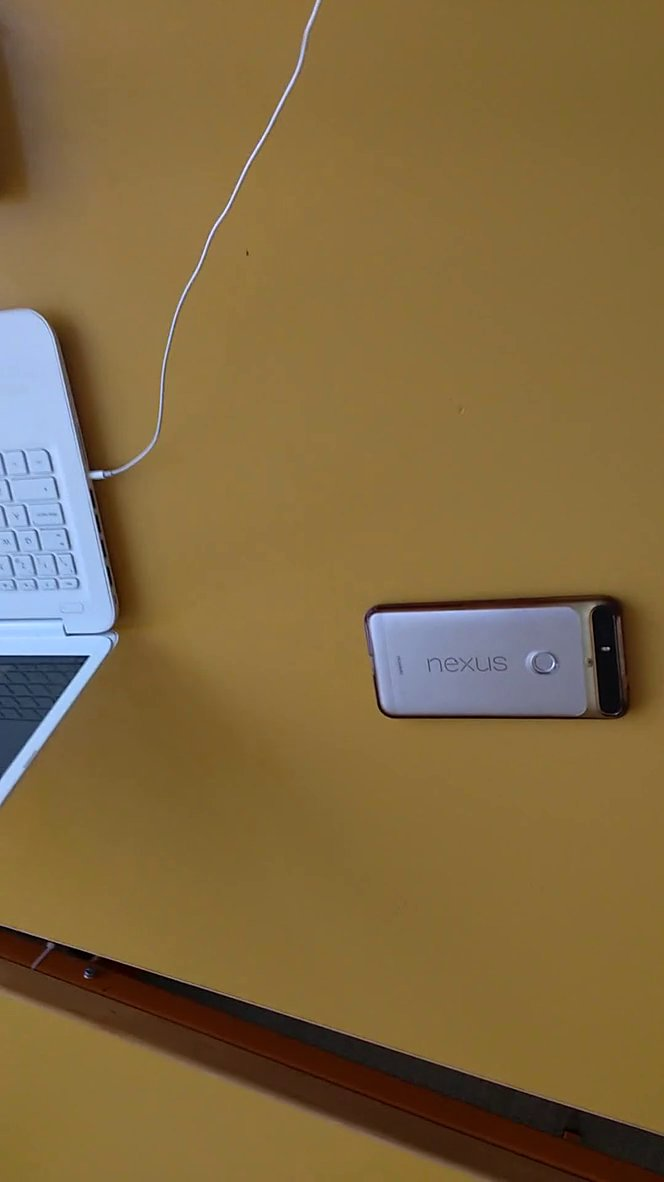phone: (354, 573, 647, 750)
